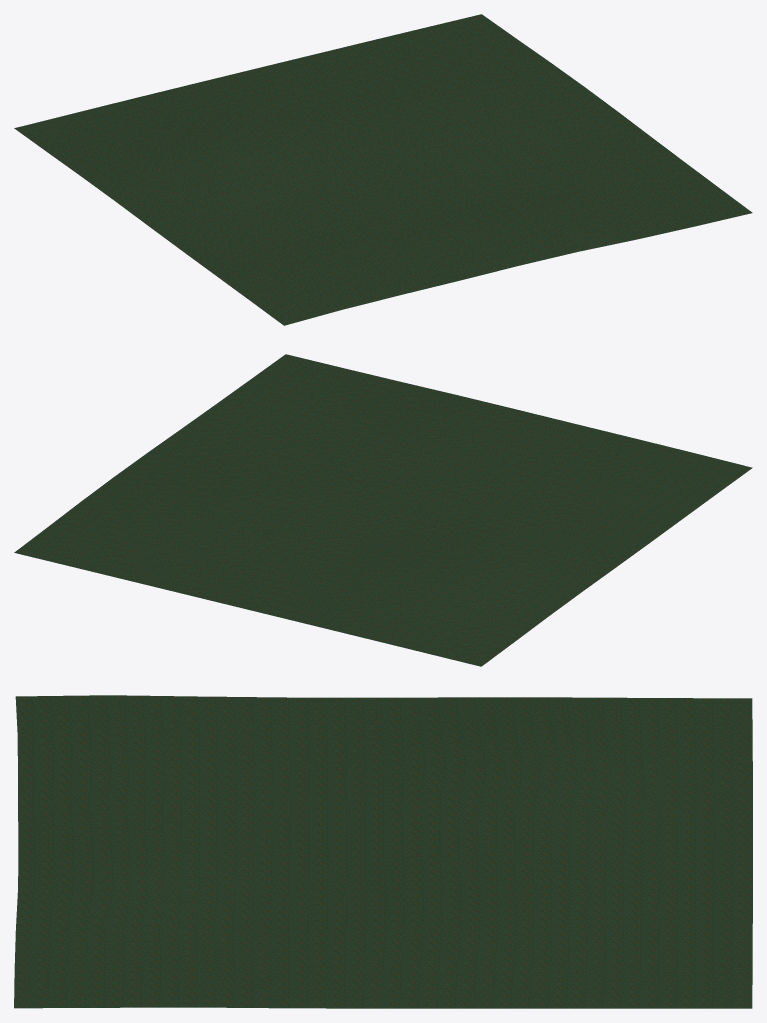
File: ground.glb
3 views of the same model, one above another, from view 1: azimuth 30°, elevation 25°; view 2: azimuth 150°, elevation 25°; view 3: azimuth 270°, elevation 25° (orthographic). The views are drawn at different scales.
Visible parts, largest first — view 1: Ground; view 2: Ground; view 3: Ground.
Part boxes in pixels (box(x1,y1,x2,y2)): Ground: box(14, 14, 752, 325); Ground: box(14, 354, 752, 666); Ground: box(14, 695, 752, 1008).
Bounding box in the file's own units: 102 × 1.79 × 102.
Materials: 1 (1 with a texture image).
